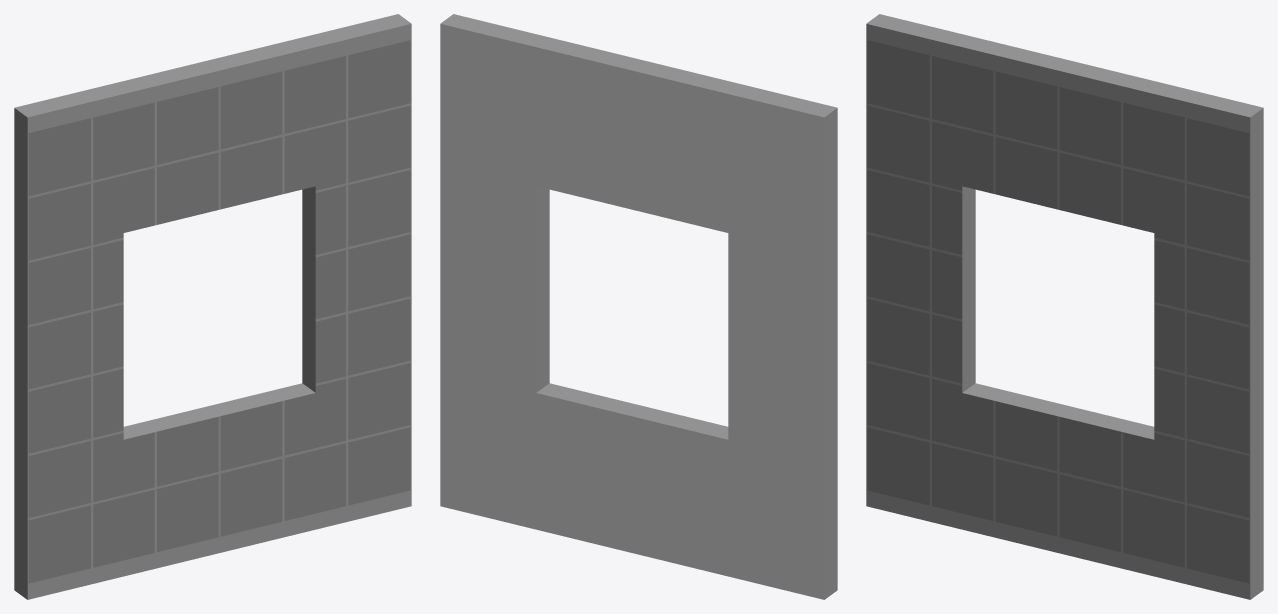
Rendered from Wall1_C7_04.fbx.
3 views of the same model, side by side, from view 1: azimuth 30°, elevation 25°; view 2: azimuth 150°, elevation 25°; view 3: azimuth 330°, elevation 25° (orthographic).
Visible parts, largest first — view 1: Wall1_C7_04; view 2: Wall1_C7_04; view 3: Wall1_C7_04.
Part boxes in pixels (x1,y1,x2,y2): Wall1_C7_04: (14,14,411,599); Wall1_C7_04: (440,14,837,599); Wall1_C7_04: (866,14,1263,599).
Bounding box in the file's own units: 250 × 300 × 15.
